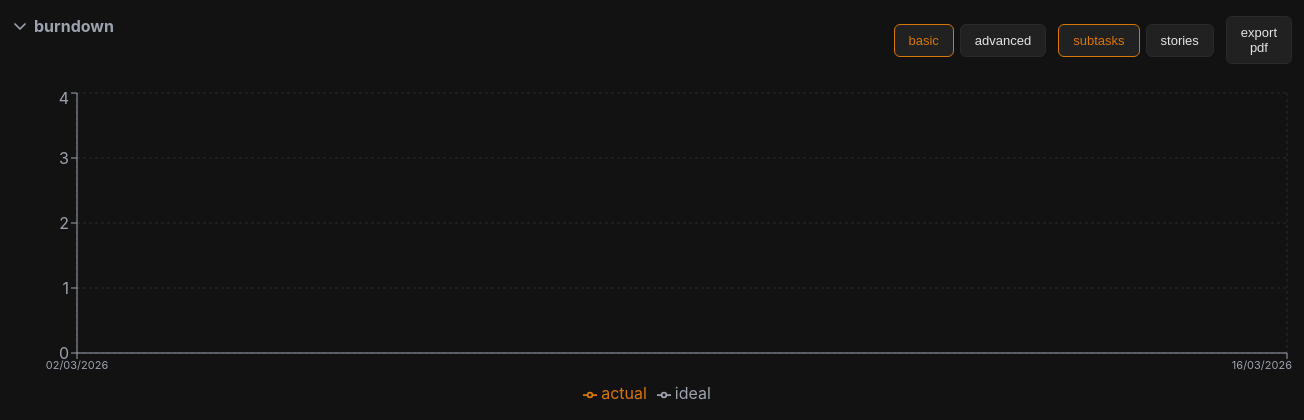
Test: BurndownSection › switches back to the basic chart when the basic toggle is clicked
Click the button "advanced": {"x": 1003, "y": 40} [960, 24, 1046, 56]
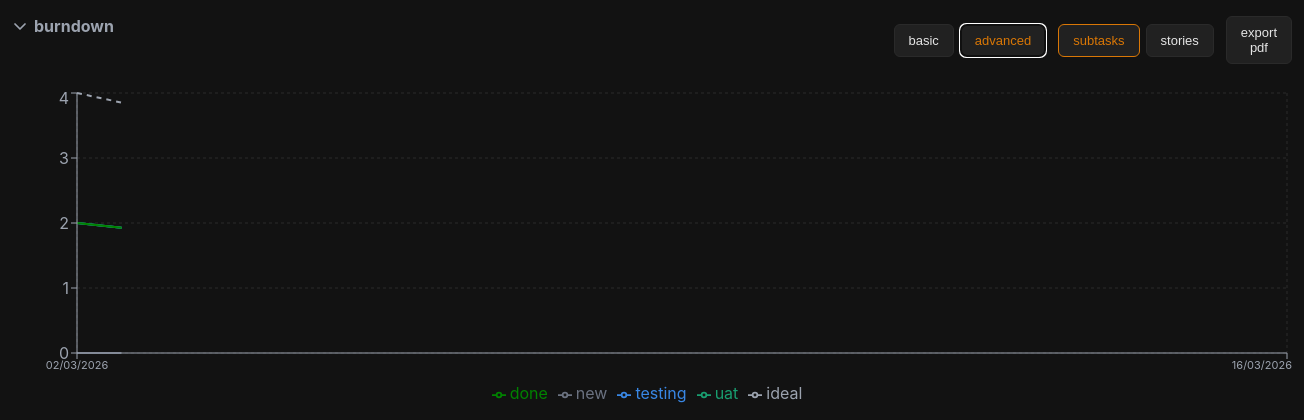
Click the button "basic": {"x": 924, "y": 40} [894, 24, 954, 56]
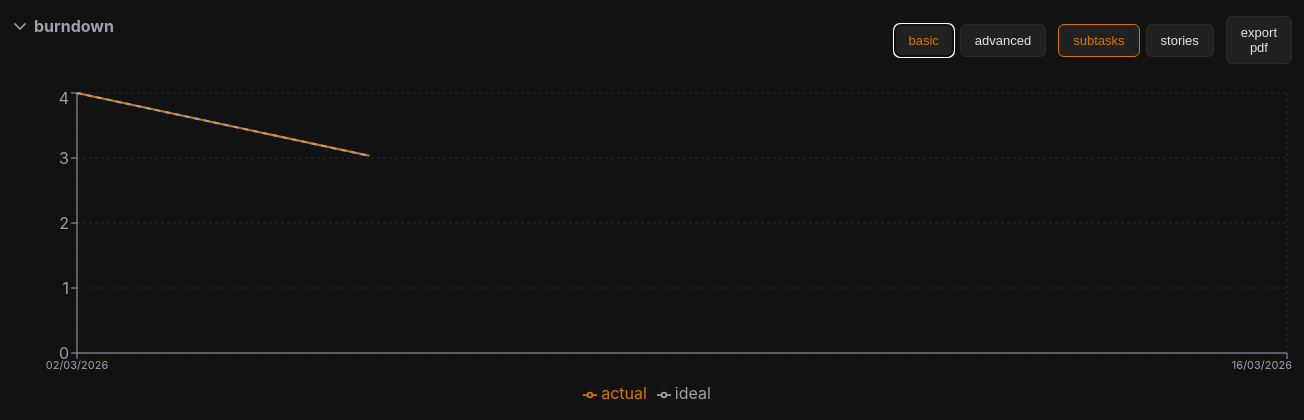
Expected: the text "actual" is shown, [601, 383, 647, 403]
